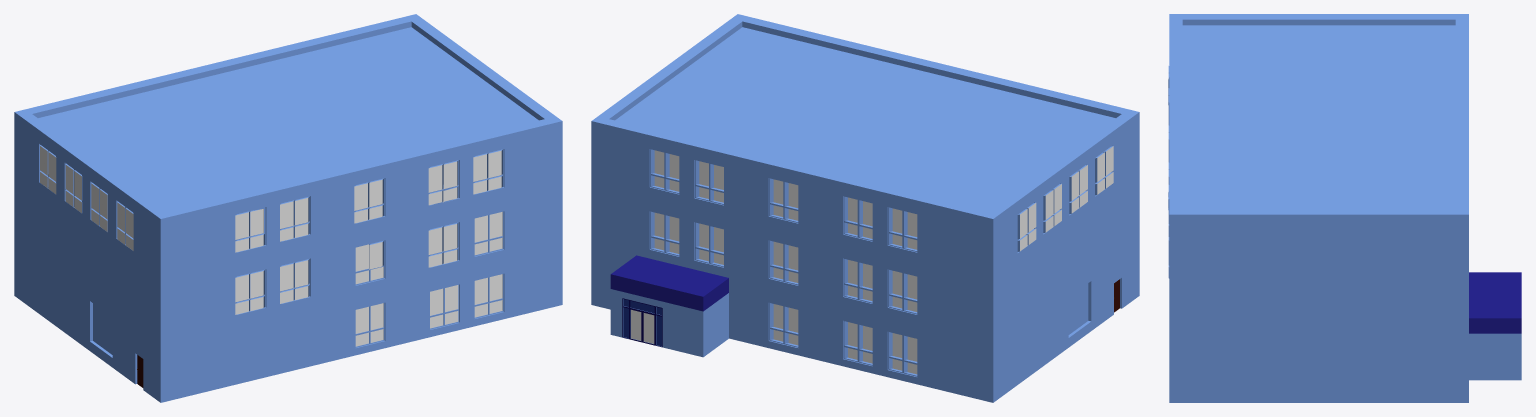
Rendered from bank.FBX.
3 renders of one model, left to right at view 1: azimuth 30°, elevation 25°; view 2: azimuth 150°, elevation 25°; view 3: azimuth 270°, elevation 25°, orthographic. The views are drawn at different scales.
Parts seen in each view (by area): view 1: Cube; view 2: Cube; view 3: Cube.
Part boxes in pixels (x1,y1,x2,y2): Cube: [14, 14, 562, 402]; Cube: [591, 14, 1139, 402]; Cube: [1168, 14, 1521, 402].
Size of the model in its own units: 6869 by 3000 by 5106.
